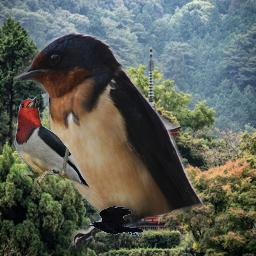Crow: (88, 206, 143, 237)
Swallow: (13, 31, 205, 252)
Woodpecker: (11, 92, 95, 199)
